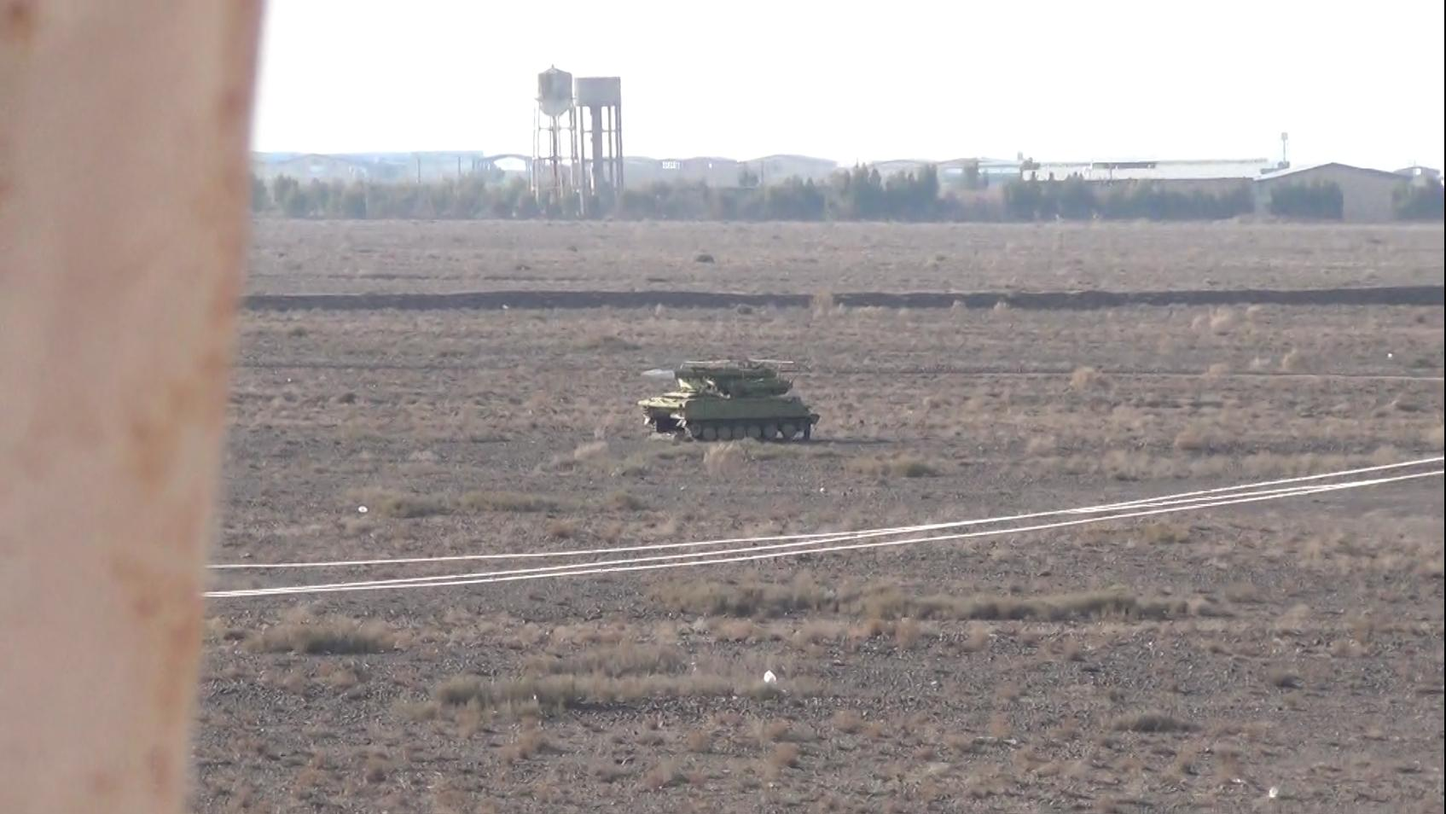armored_car: (635, 360, 820, 443)
